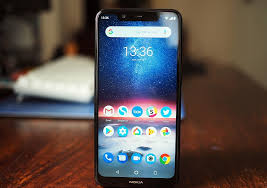nokia: (93, 7, 183, 183)
